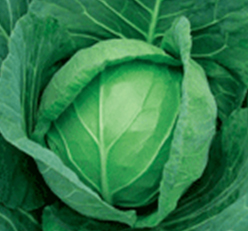cabbage: (0, 3, 247, 230)
